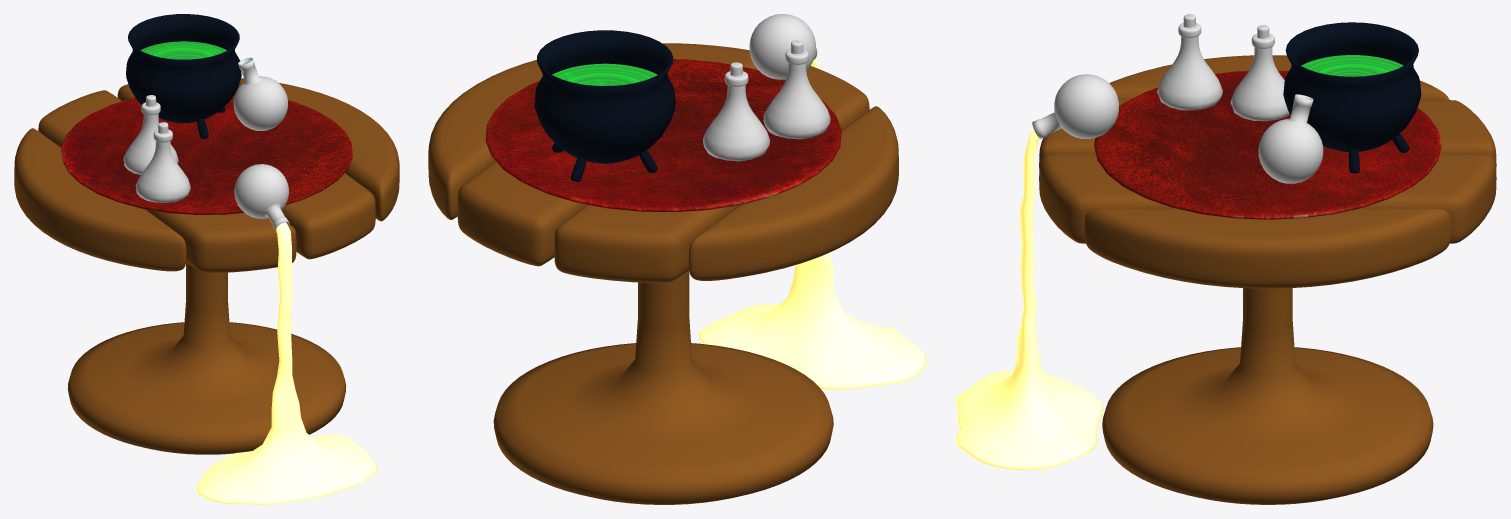
File: pociones.fbx
3 renders of one model, left to right at view 1: azimuth 30°, elevation 25°; view 2: azimuth 150°, elevation 25°; view 3: azimuth 270°, elevation 25°, orthographic. The views are drawn at different scales.
Visible parts, largest first — view 1: mesa, alfombra, liquido, caldero, pocion redonda, pocion tirada, pocion triangular 2, pocion triangular, liquido caldero; view 2: mesa, alfombra, caldero, liquido, pocion triangular, pocion triangular 2, pocion tirada, liquido caldero; view 3: mesa, alfombra, liquido, caldero, pocion redonda, pocion tirada, pocion triangular 2, pocion triangular, liquido caldero.
Part boxes in pixels (x1,y1,x2,y2): mesa: (14, 78, 399, 454); alfombra: (61, 91, 352, 214); liquido: (196, 222, 377, 504); caldero: (126, 14, 241, 138); pocion redonda: (233, 57, 288, 130); pocion tirada: (234, 164, 289, 230); pocion triangular 2: (135, 129, 190, 202); pocion triangular: (123, 102, 178, 174); liquido caldero: (141, 41, 226, 59); mesa: (428, 43, 898, 504); alfombra: (485, 59, 841, 212); caldero: (534, 30, 675, 181); liquido: (698, 58, 926, 389); pocion triangular: (703, 71, 769, 161); pocion triangular 2: (763, 49, 830, 139); pocion tirada: (749, 14, 817, 79); liquido caldero: (552, 63, 657, 85); mesa: (1039, 55, 1496, 504); alfombra: (1094, 70, 1441, 219); liquido: (955, 129, 1102, 470); caldero: (1283, 22, 1421, 173); pocion redonda: (1258, 94, 1323, 183); pocion tirada: (1032, 74, 1118, 139); pocion triangular 2: (1157, 23, 1222, 110); pocion triangular: (1230, 33, 1289, 121); liquido caldero: (1301, 55, 1403, 76).
Size of what is drawn, in the model's own units: 357 by 347 by 421.
